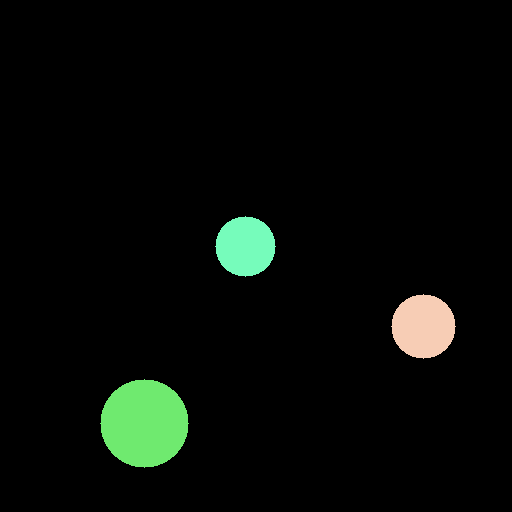circle: (100, 379, 188, 467), (391, 294, 455, 358), (215, 216, 275, 276)
